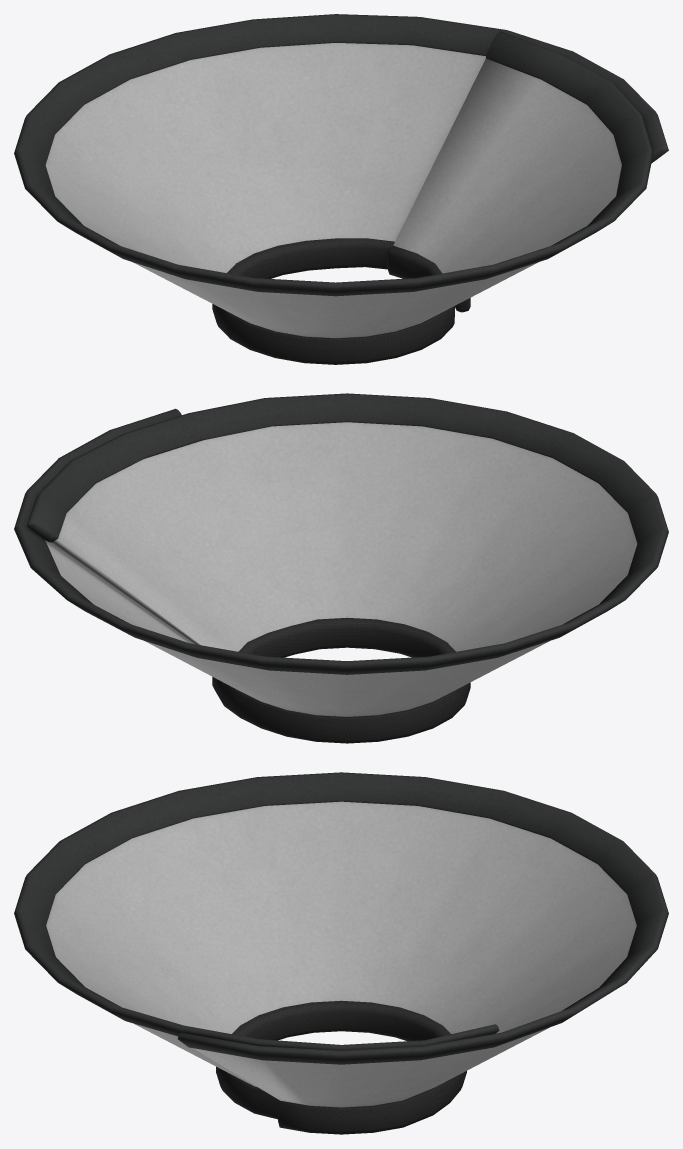
File: CatCone.fbx
3 renders of one model, top to bottom at view 1: azimuth 30°, elevation 25°; view 2: azimuth 150°, elevation 25°; view 3: azimuth 270°, elevation 25°, orthographic.
Visible parts, largest first — view 1: CatCone; view 2: CatCone; view 3: CatCone.
Boxes of the visible parts, x1,y1,x2,y2 form: CatCone: (14,14,668,364); CatCone: (14,393,668,743); CatCone: (14,772,668,1134).
Bounding box in the file's own units: 0.3311 × 0.0942 × 0.3244.
